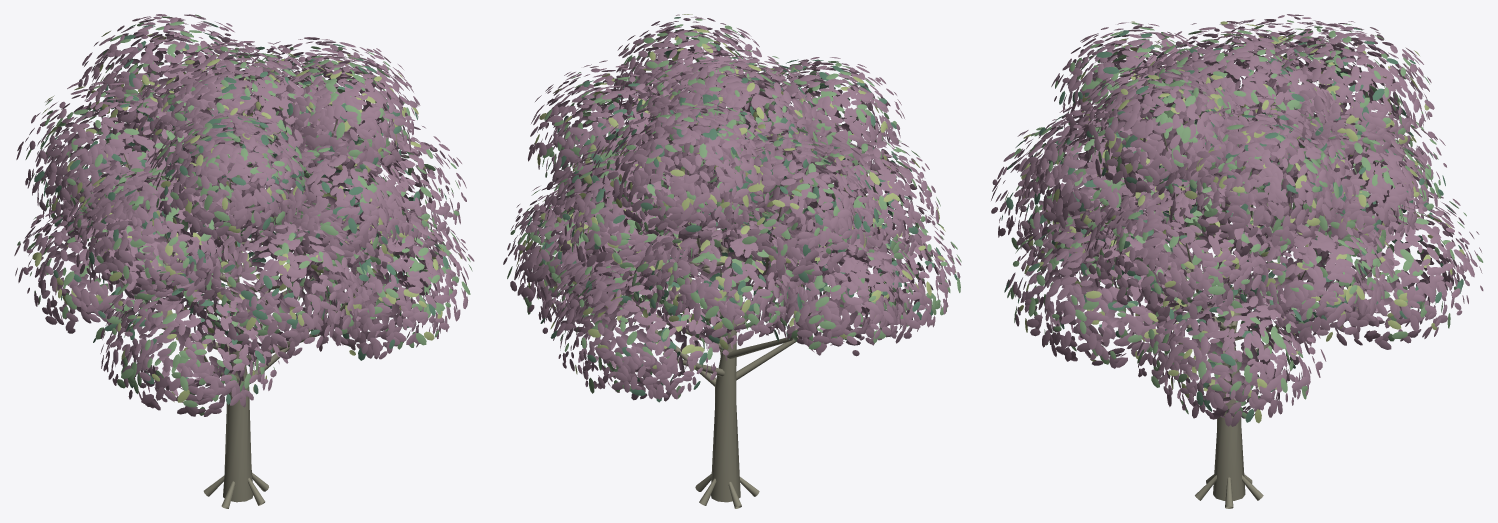
The model's file is study_canopy_2.glb.
3 renders of one model, left to right at view 1: azimuth 30°, elevation 25°; view 2: azimuth 150°, elevation 25°; view 3: azimuth 270°, elevation 25°, orthographic. The views are drawn at different scales.
Visible parts, largest first — view 1: study_canopy_2_StudyLeafPurple, study_canopy_2_StudyLeafJade, study_canopy_2_StudyLeafDeep, study_canopy_2_StudyLeafGold, study_canopy_2_StudyBark; view 2: study_canopy_2_StudyLeafPurple, study_canopy_2_StudyLeafJade, study_canopy_2_StudyLeafDeep, study_canopy_2_StudyBark, study_canopy_2_StudyLeafGold; view 3: study_canopy_2_StudyLeafPurple, study_canopy_2_StudyLeafJade, study_canopy_2_StudyLeafDeep, study_canopy_2_StudyLeafGold, study_canopy_2_StudyBark.
Boxes of the visible parts, left/top/right/bottom form: study_canopy_2_StudyLeafPurple: left=14, top=14, right=474, bottom=416; study_canopy_2_StudyLeafJade: left=17, top=14, right=472, bottom=415; study_canopy_2_StudyLeafDeep: left=34, top=21, right=448, bottom=407; study_canopy_2_StudyLeafGold: left=32, top=31, right=462, bottom=402; study_canopy_2_StudyBark: left=120, top=89, right=370, bottom=508; study_canopy_2_StudyLeafPurple: left=503, top=14, right=961, bottom=401; study_canopy_2_StudyLeafJade: left=507, top=18, right=961, bottom=398; study_canopy_2_StudyLeafDeep: left=520, top=17, right=957, bottom=402; study_canopy_2_StudyBark: left=621, top=90, right=842, bottom=508; study_canopy_2_StudyLeafGold: left=516, top=14, right=956, bottom=374; study_canopy_2_StudyLeafPurple: left=991, top=14, right=1483, bottom=426; study_canopy_2_StudyLeafJade: left=1007, top=20, right=1483, bottom=418; study_canopy_2_StudyLeafDeep: left=1001, top=28, right=1463, bottom=422; study_canopy_2_StudyLeafGold: left=1004, top=21, right=1464, bottom=423; study_canopy_2_StudyBark: left=1101, top=102, right=1374, bottom=508.
Size of the model in its own units: 9.66 by 10.05 by 9.71.
